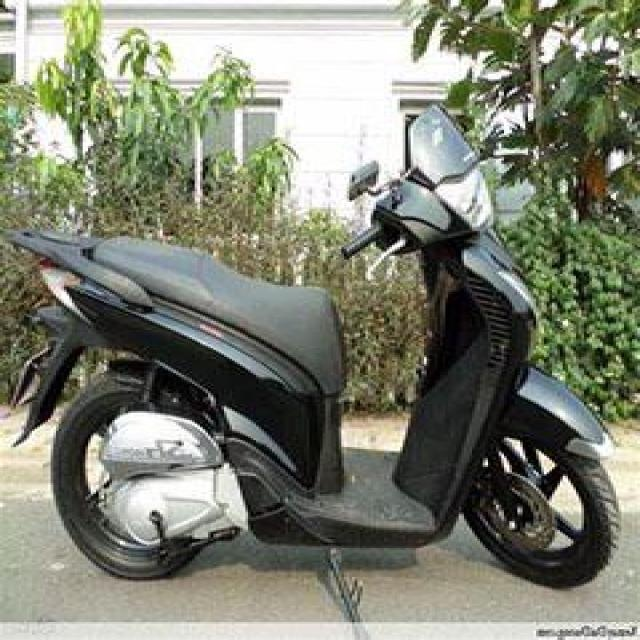motorcycle: (16, 97, 640, 602)
